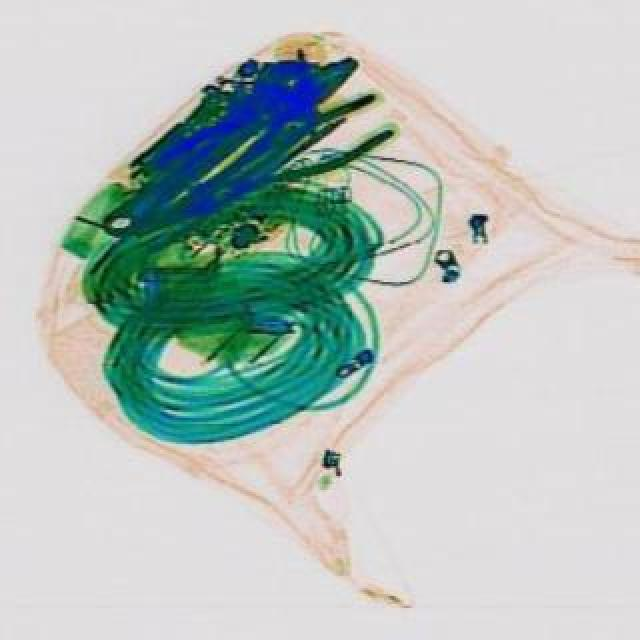scissors: (92, 42, 344, 266)
wrench: (158, 36, 380, 208), (188, 92, 406, 234)
